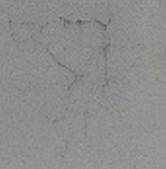fissura: (4, 11, 155, 103)
